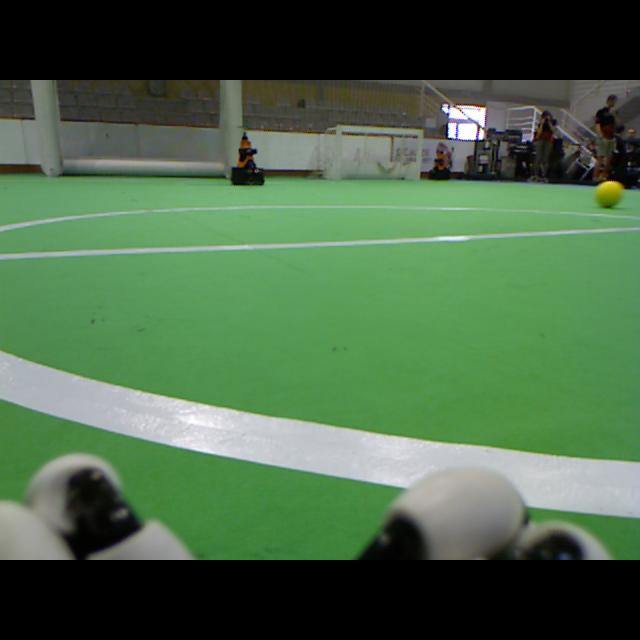ball: (596, 180, 623, 207)
goal: (414, 130, 422, 180), (337, 126, 344, 179)
robot: (231, 129, 263, 185), (430, 146, 450, 181)
